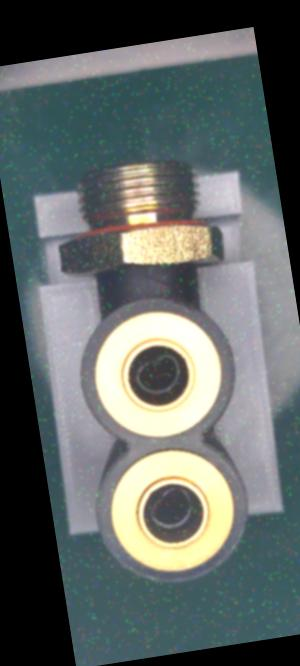craze: (148, 272, 171, 290)
off-centered: (140, 480, 203, 540), (126, 350, 186, 402)
